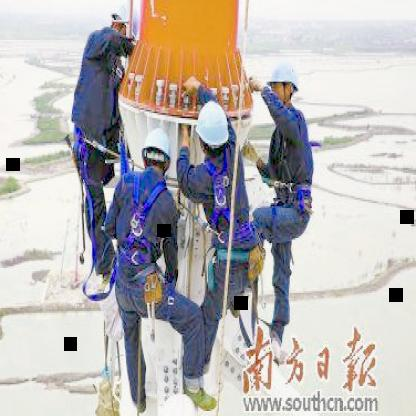helmet: (194, 96, 230, 160), (264, 60, 302, 104), (105, 2, 143, 44), (140, 132, 170, 178)
